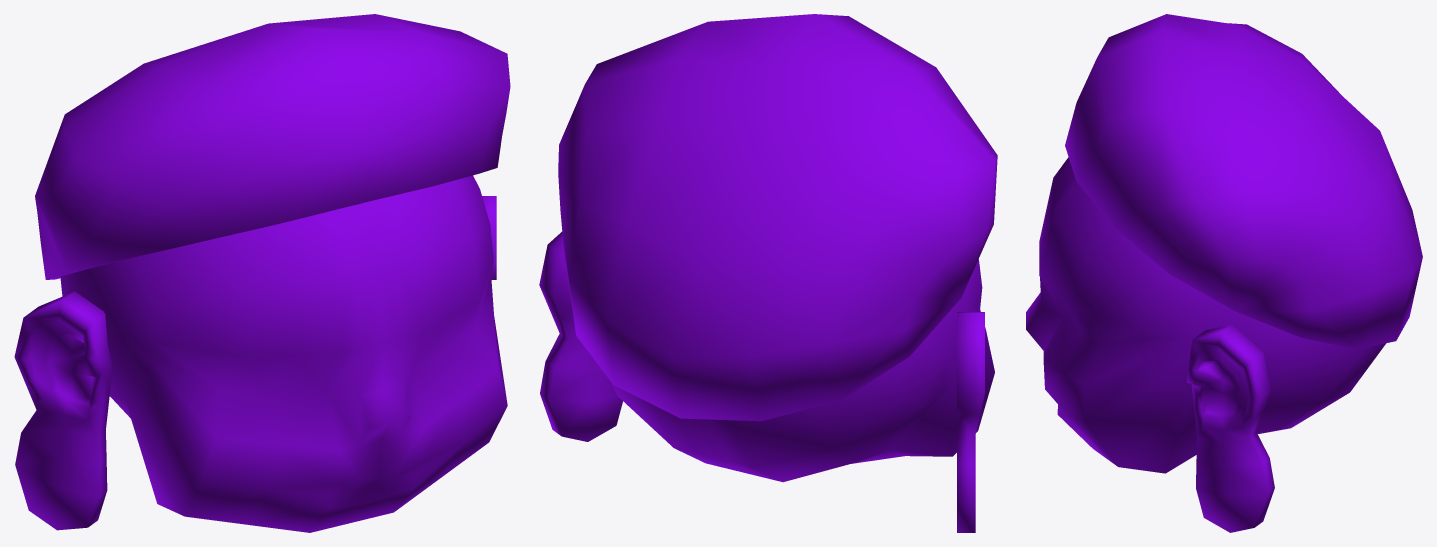
File: daikokuten_normal.fbx
3 views of the same model, side by side, from view 1: azimuth 30°, elevation 25°; view 2: azimuth 150°, elevation 25°; view 3: azimuth 270°, elevation 25° (orthographic). The views are drawn at different scales.
Visible parts, largest first — view 1: Sphere; view 2: Sphere; view 3: Sphere.
Part boxes in pixels (x1,y1,x2,y2): Sphere: [14, 14, 510, 532]; Sphere: [539, 14, 997, 532]; Sphere: [1026, 14, 1422, 532].
Bounding box in the file's own units: 2.56 × 2.43 × 2.13.
